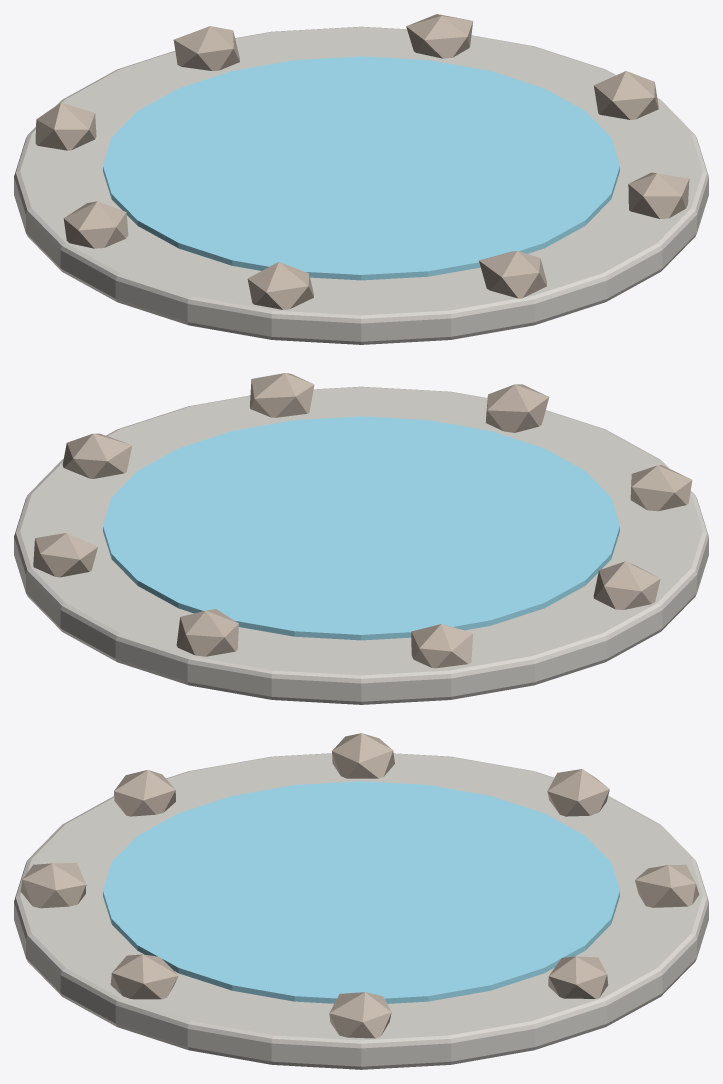
File: TrainingPad.fbx
3 renders of one model, top to bottom at view 1: azimuth 30°, elevation 25°; view 2: azimuth 150°, elevation 25°; view 3: azimuth 270°, elevation 25°, orthographic.
Parts seen in each view (by area): view 1: Glow.001, Stone.004, Rock.004; view 2: Glow.001, Stone.004, Rock.004; view 3: Glow.001, Stone.004, Rock.004.
Part boxes in pixels (x1,y1,x2,y2): Glow.001: (103, 56, 619, 280); Stone.004: (14, 26, 708, 344); Rock.004: (35, 14, 689, 309); Glow.001: (103, 416, 619, 640); Stone.004: (14, 386, 708, 704); Rock.004: (33, 373, 692, 668); Glow.001: (103, 781, 619, 1003); Stone.004: (14, 753, 708, 1069); Rock.004: (20, 733, 699, 1038).
Size of the model in its own units: 17.2 by 1.74 by 17.2.
